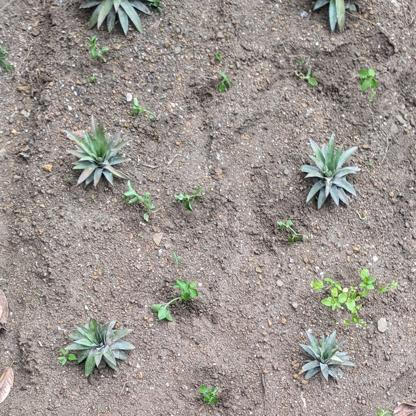pineapple: (298, 131, 363, 214), (59, 119, 133, 188), (65, 315, 140, 379), (295, 325, 353, 386), (75, 1, 162, 37)
weed: (308, 267, 404, 316), (151, 280, 203, 324), (171, 179, 212, 214), (81, 32, 120, 67), (196, 378, 230, 416), (122, 185, 160, 219), (355, 65, 388, 95)
